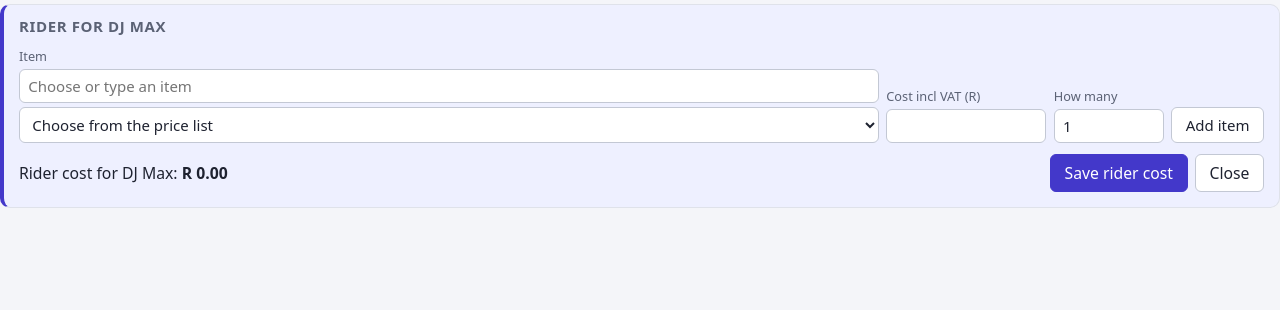
Scenario: adding items › adds an item that is not on the price list, using the typed name
Type "  Towels " into the field labelled "Item" at (449, 86), box [19,69,879,103]
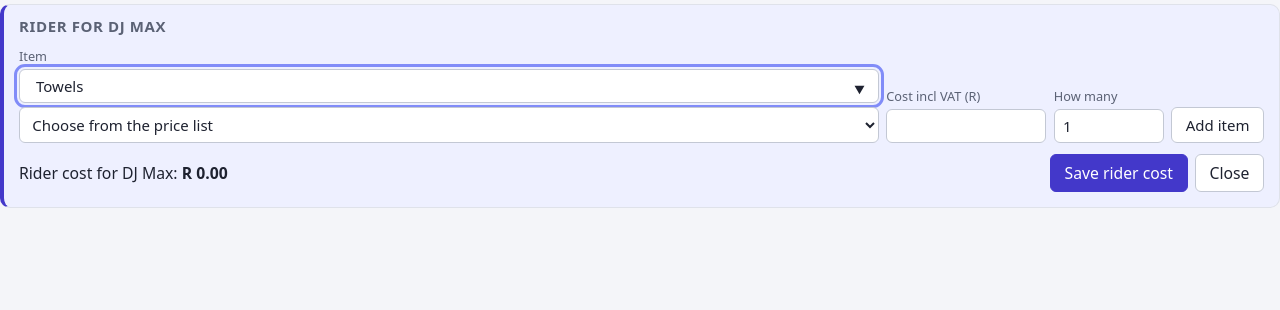
Type "20" into the number field labelled "Cost incl VAT (R)" at (966, 126), box [886,109,1046,143]
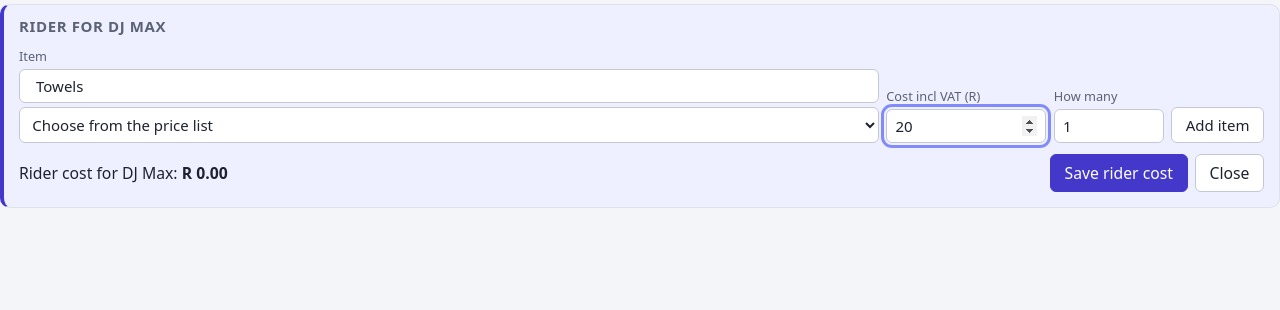
Replace the text in the number field labelled "How many" with "3" at (1109, 126), box [1054,109,1164,143]
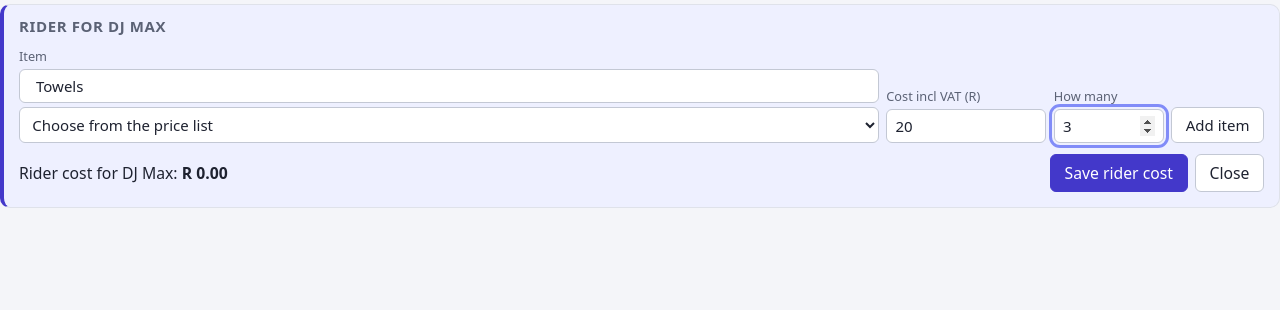
Click the button "Add item" at (1218, 125), box [1171,107,1264,143]
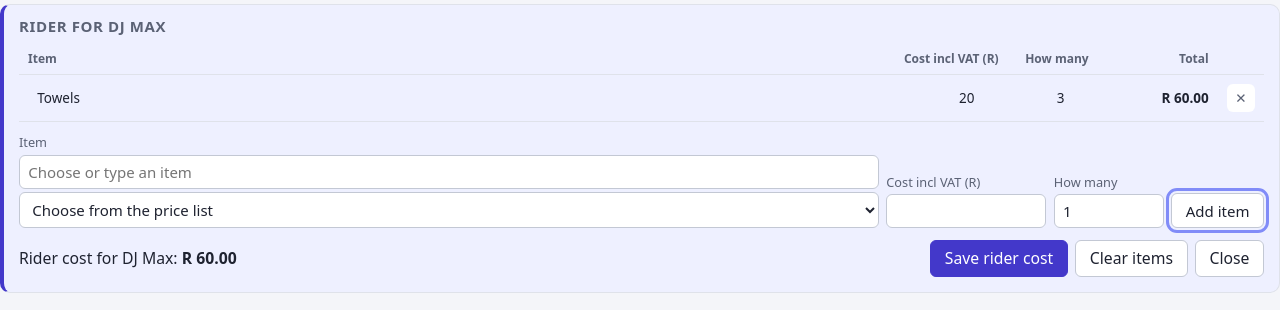
Result: the field named "Item" holds "Towels" at [28,82,871,114]
